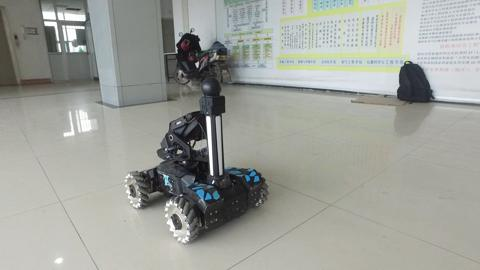bag: (393, 54, 437, 109)
chariot: (106, 80, 275, 248)
